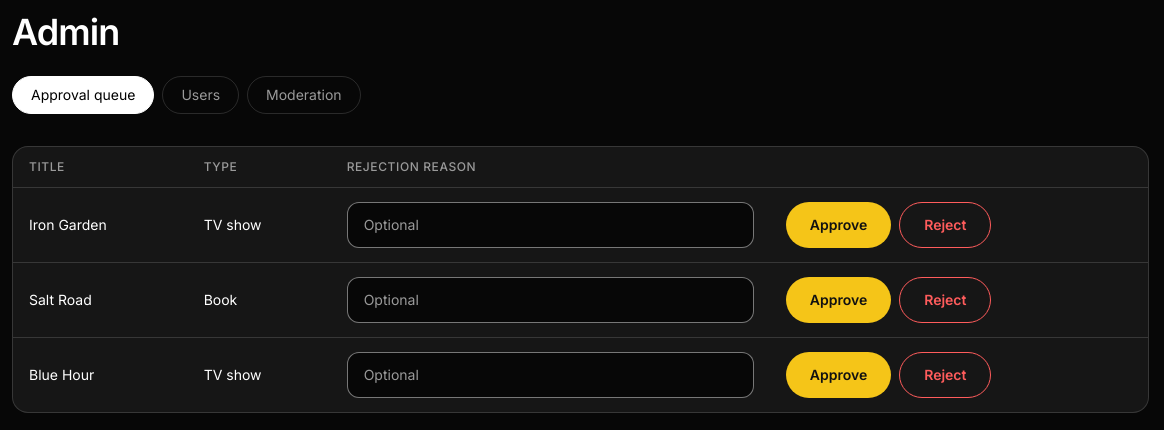
Scenario: ApprovalQueue › reject sends the reason
Type "Poster missing" into the field with placeholder "Optional" in the row of "Iron Garden" at (550, 225), box [347,202,754,248]
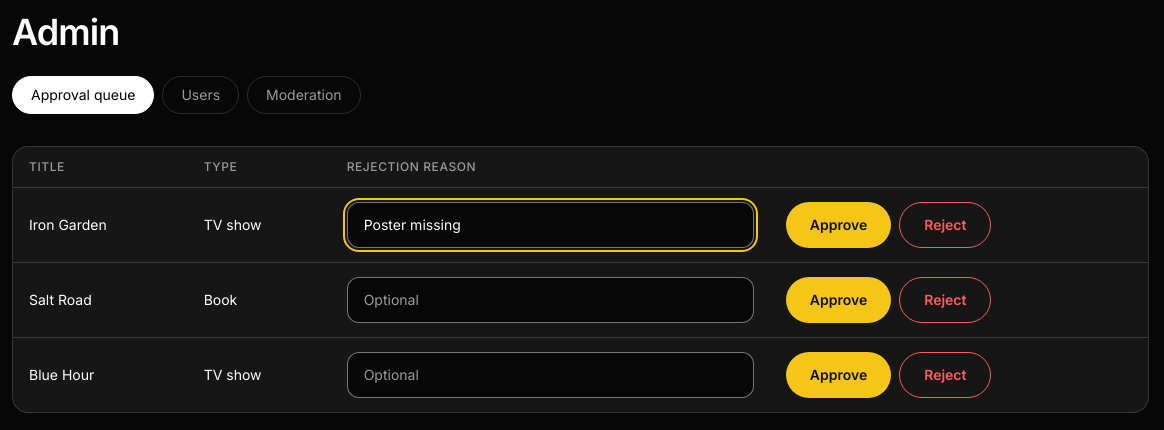
Click the button "Reject" in the row of "Iron Garden" at (945, 225), box [899,202,992,248]
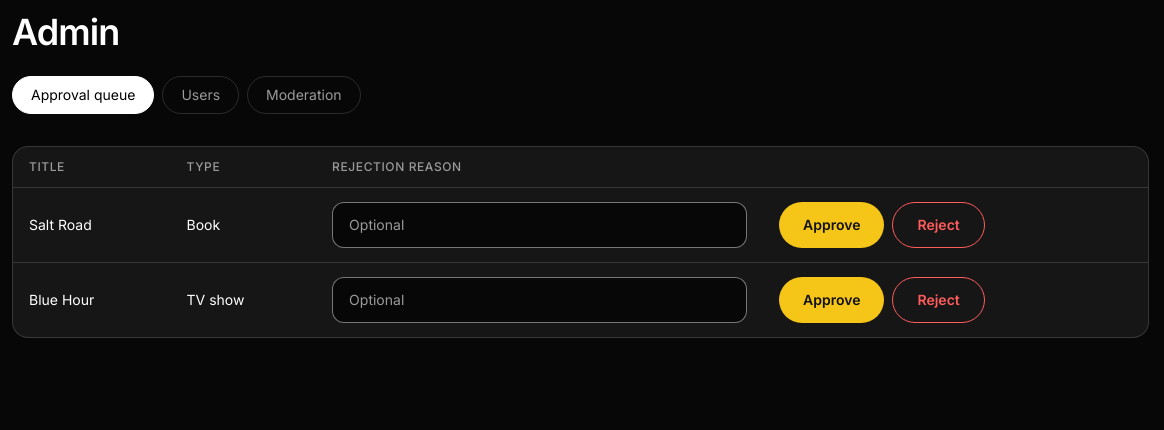
Result: the cell "Iron Garden" is gone
